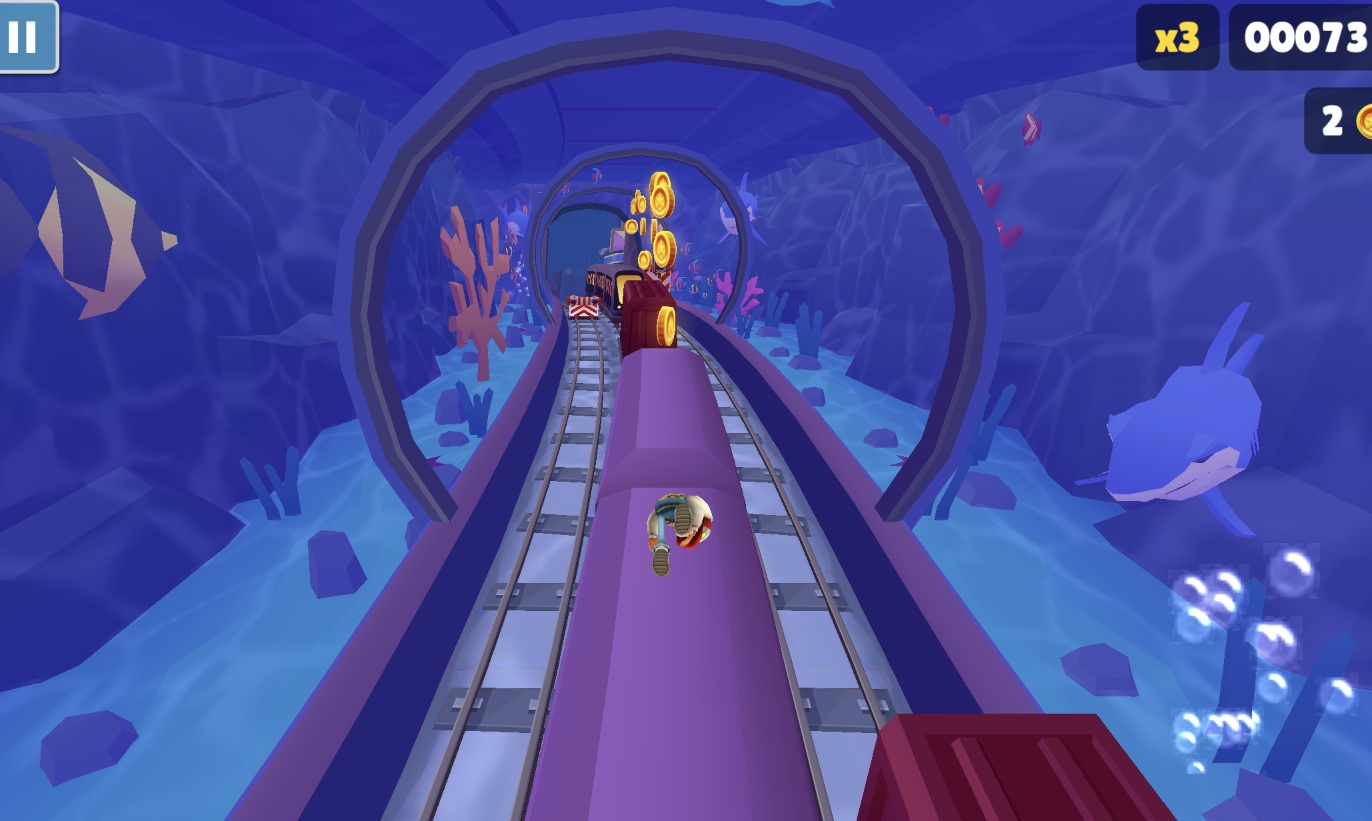ground_barrier: (562, 296, 592, 321)
overhead_barrier: (640, 267, 672, 294)
train: (516, 347, 829, 821), (859, 710, 1176, 821), (614, 272, 678, 358), (584, 263, 630, 326)
